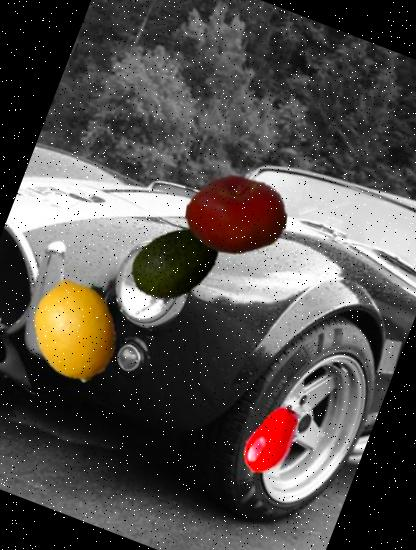Avocado: (116, 205, 235, 324)
Lemon: (6, 264, 142, 400)
Nectarine: (171, 151, 300, 280)
Tomato: (223, 394, 317, 488)
